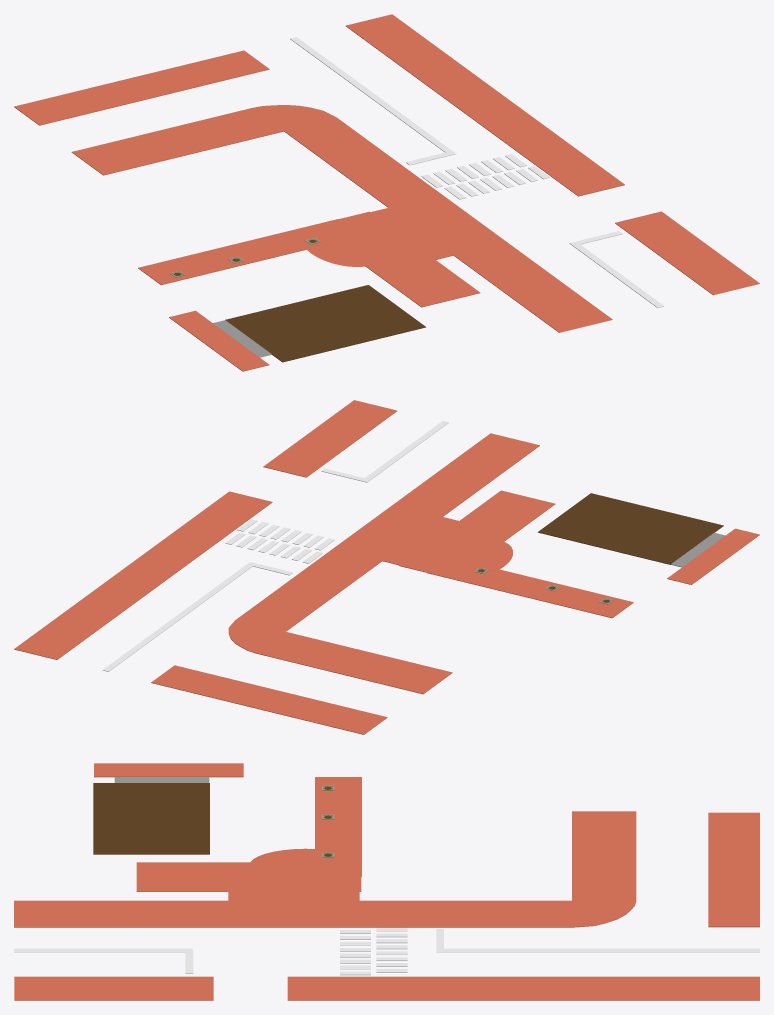
Rendered from SideWalk.glb.
3 renders of one model, top to bottom at view 1: azimuth 30°, elevation 25°; view 2: azimuth 150°, elevation 25°; view 3: azimuth 270°, elevation 25°, orthographic. The views are drawn at different scales.
Parts seen in each view (by area): view 1: B5-B6 Road; view 2: B5-B6 Road; view 3: B5-B6 Road.
Part boxes in pixels (bbox=[...]): B5-B6 Road: bbox=[14, 14, 759, 371]; B5-B6 Road: bbox=[14, 400, 759, 734]; B5-B6 Road: bbox=[14, 763, 759, 1000].
Bounding box in the file's own units: 719 × 2.01 × 959.
